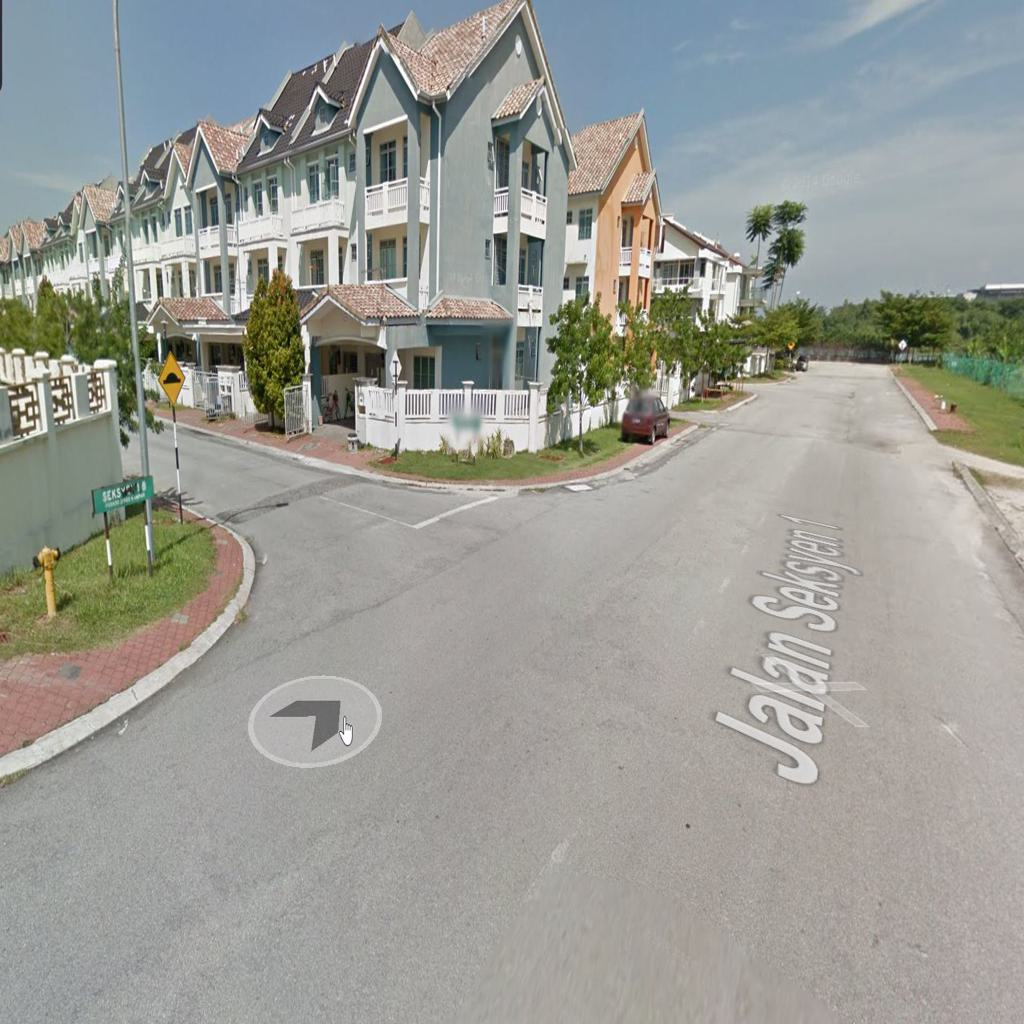Junction: (130, 416, 550, 667)
